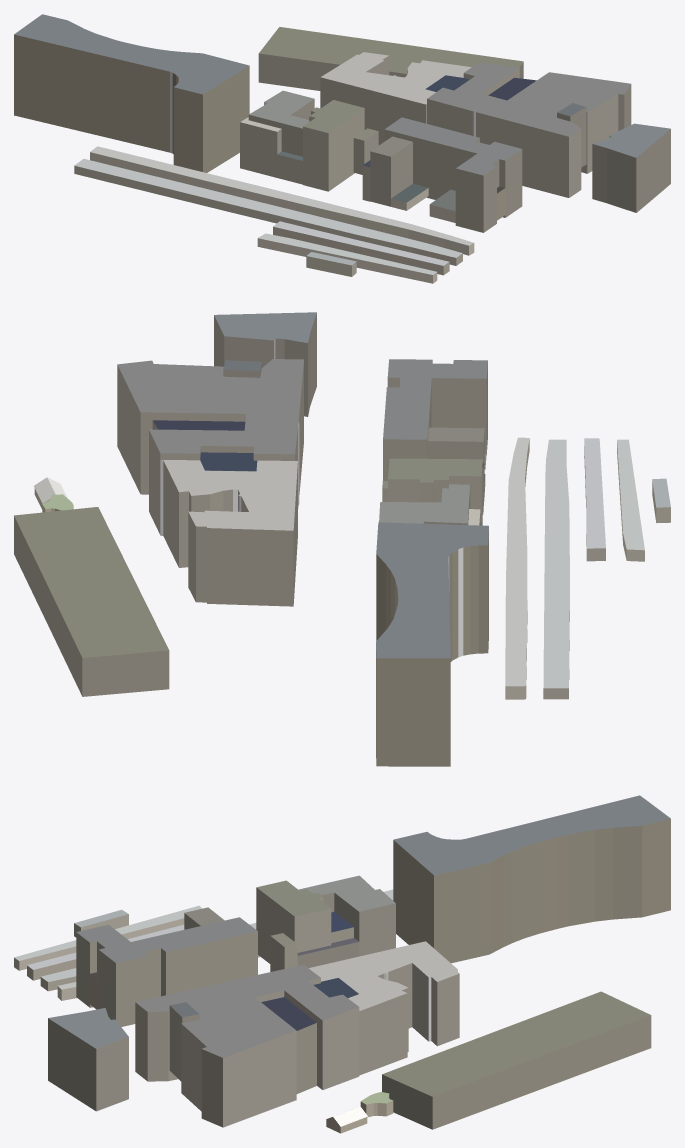
The picture shows the model from 3 angles, top to bottom: view 1: azimuth 30°, elevation 25°; view 2: azimuth 150°, elevation 25°; view 3: azimuth 270°, elevation 25°; orthographic projection. The views are drawn at different scales.
Parts seen in each view (by area): view 1: tuile; view 2: tuile; view 3: tuile.
Part boxes in pixels (x1,y1,x2,y2): tuile: (14,14,670,283); tuile: (14,312,670,766); tuile: (14,795,670,1133).
Bounding box in the file's own units: 311 × 59.09 × 341.
